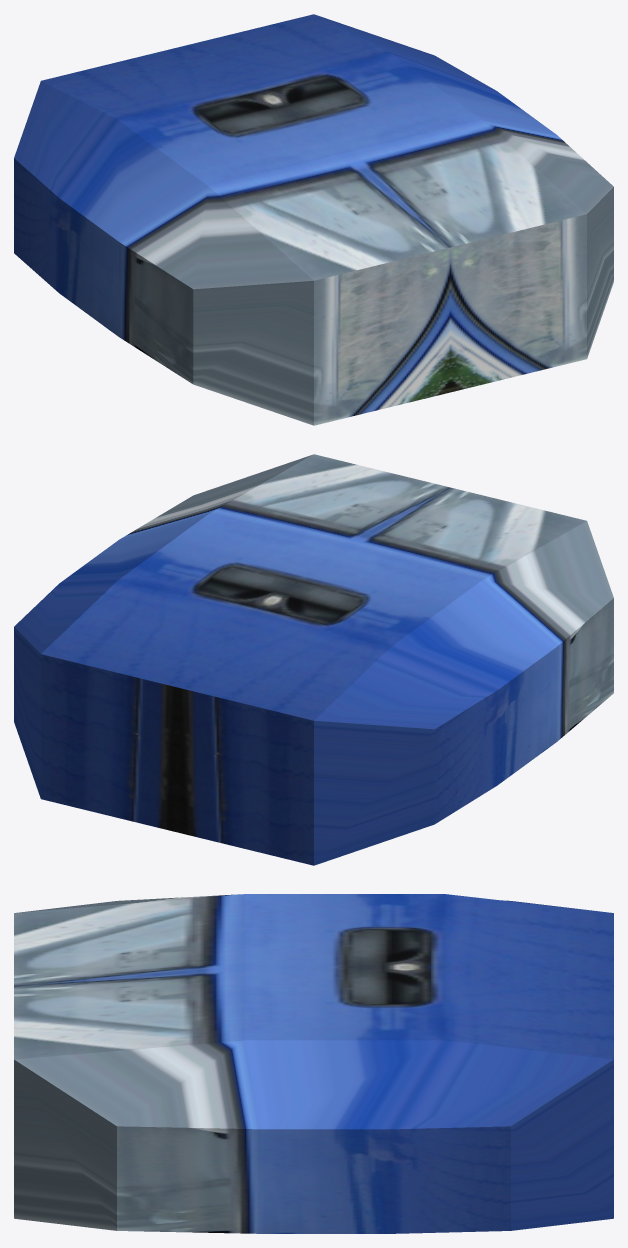
3 views of the same model, one above another, from view 1: azimuth 30°, elevation 25°; view 2: azimuth 150°, elevation 25°; view 3: azimuth 270°, elevation 25° (orthographic). The views are drawn at different scales.
Visible parts, largest first — view 1: Body-1.003_Cube.034; view 2: Body-1.003_Cube.034; view 3: Body-1.003_Cube.034.
Part boxes in pixels (x1=…): Body-1.003_Cube.034: x1=14, y1=14, x2=613, y2=425; Body-1.003_Cube.034: x1=14, y1=454, x2=613, y2=865; Body-1.003_Cube.034: x1=14, y1=894, x2=613, y2=1233.
Bounding box in the file's own units: 11.29 × 4.26 × 12.19.
